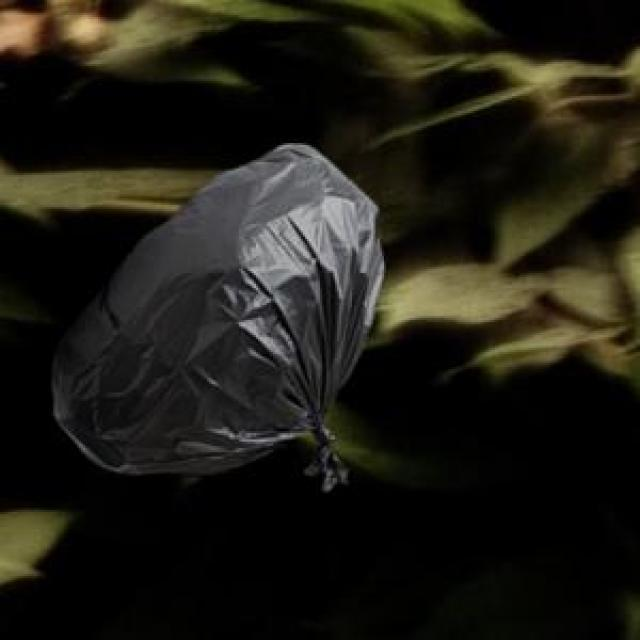garbage_bag: (45, 136, 391, 492)
